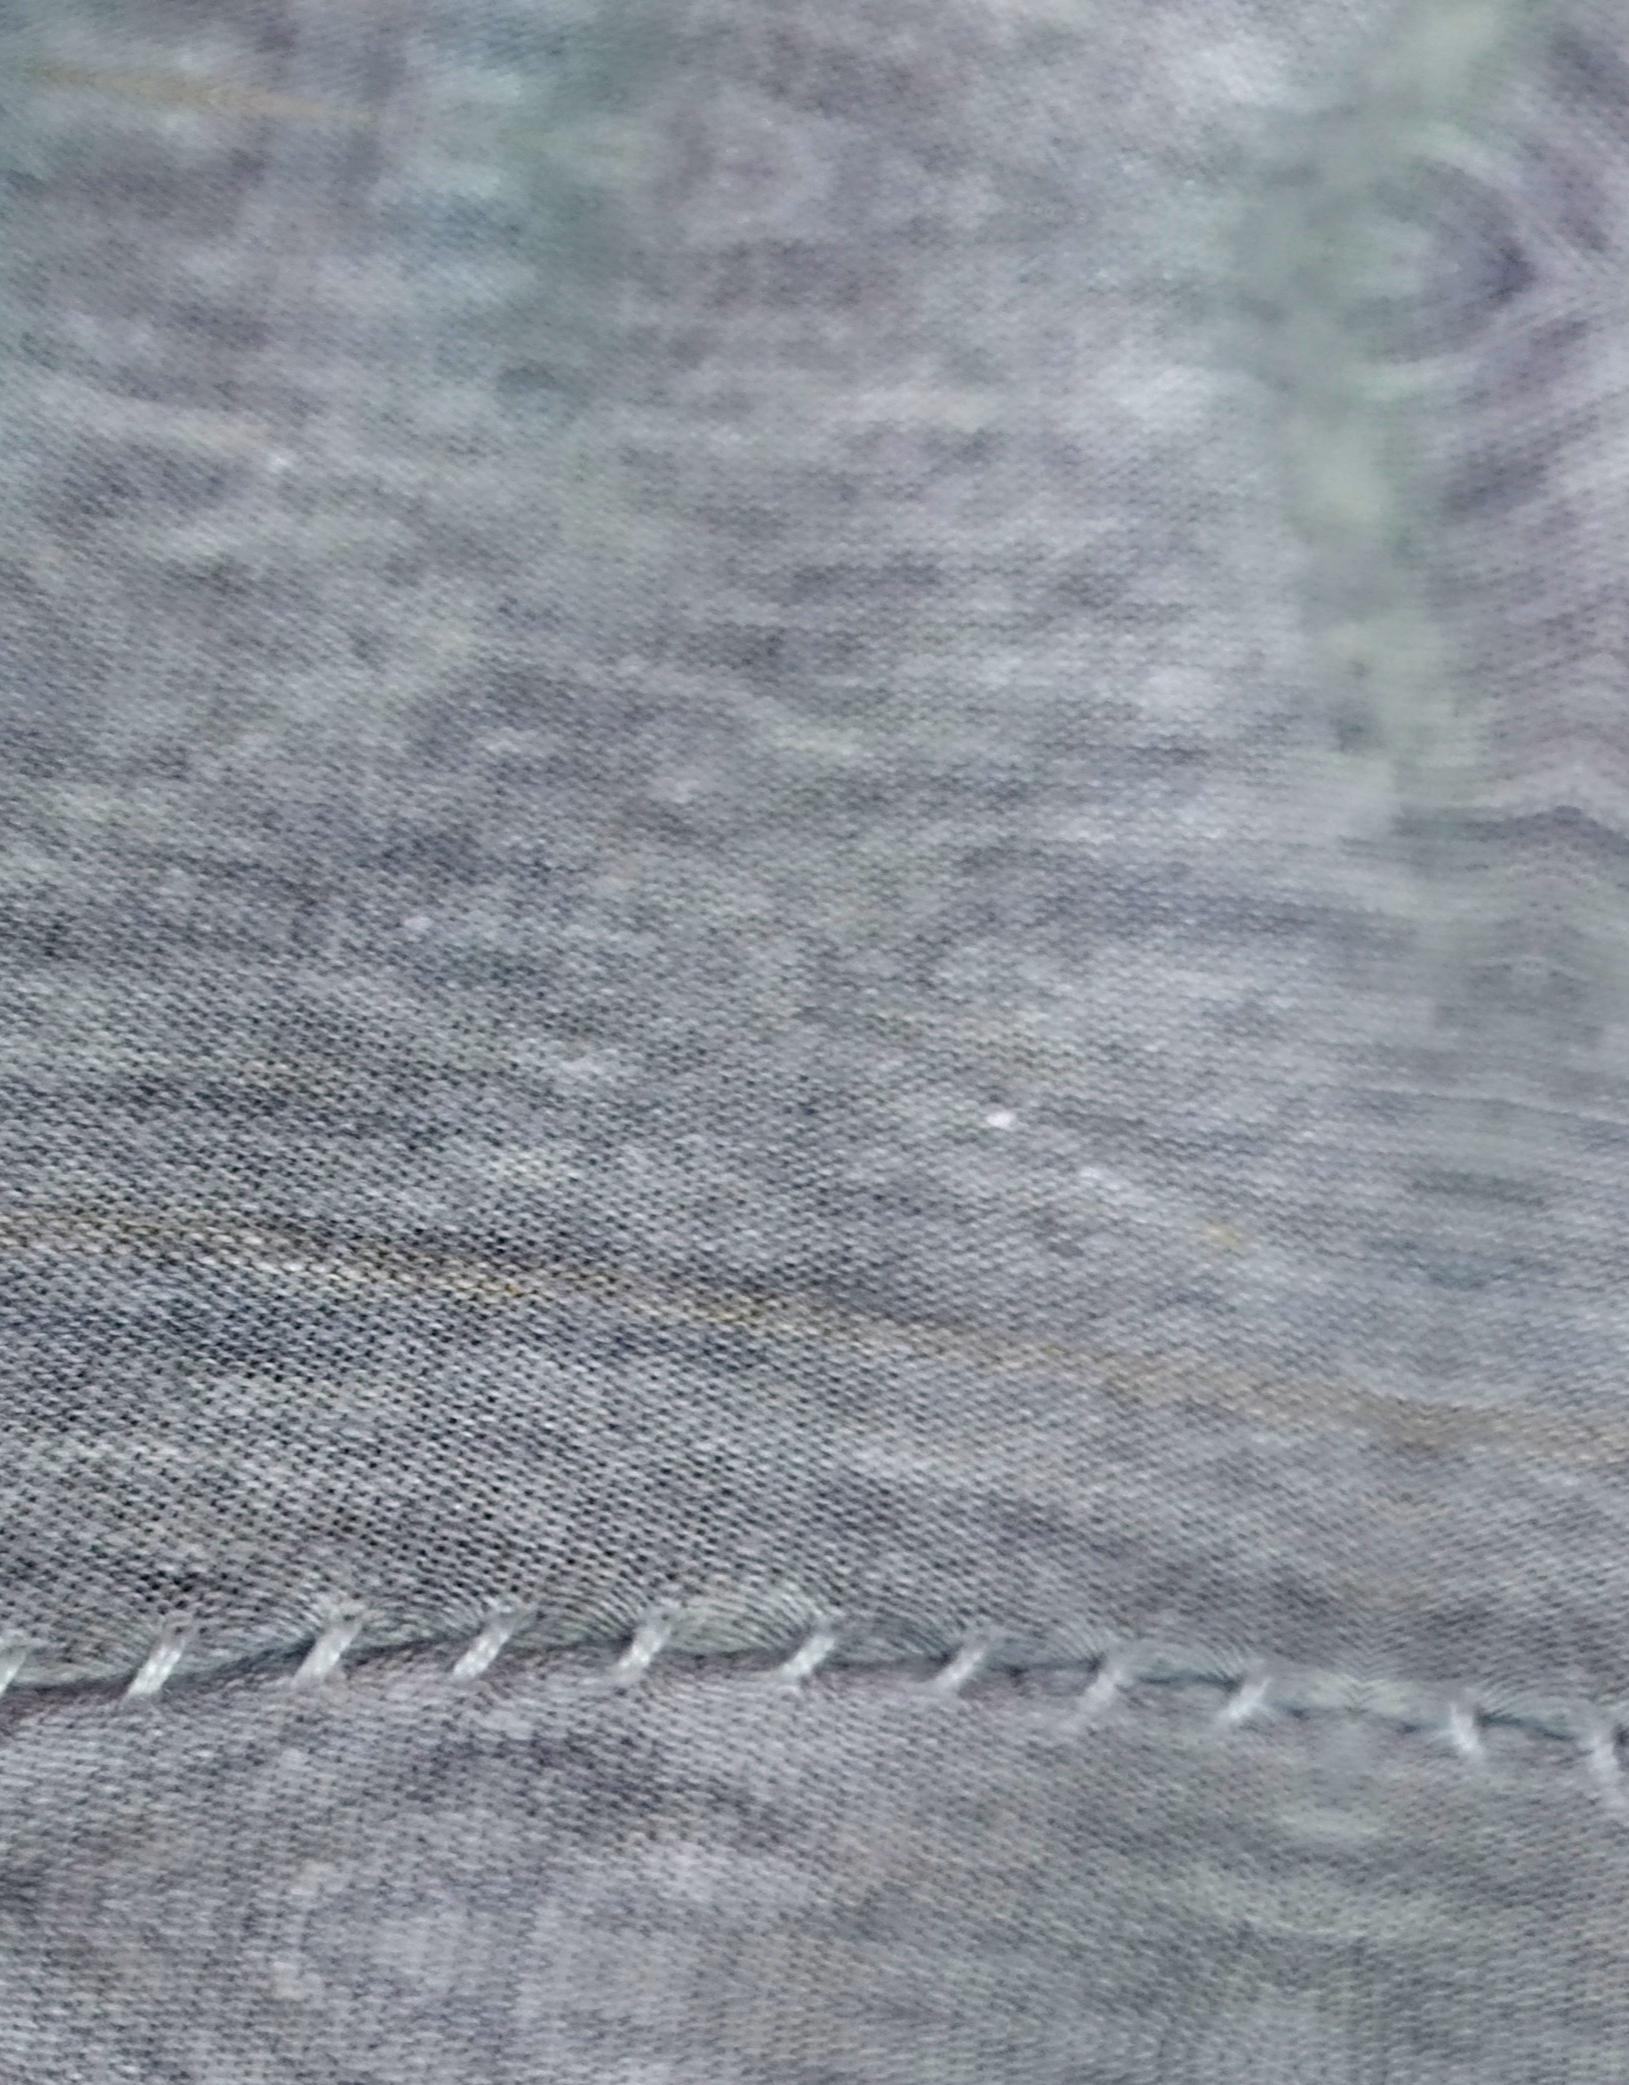slub: (0, 1609, 1617, 1819)
